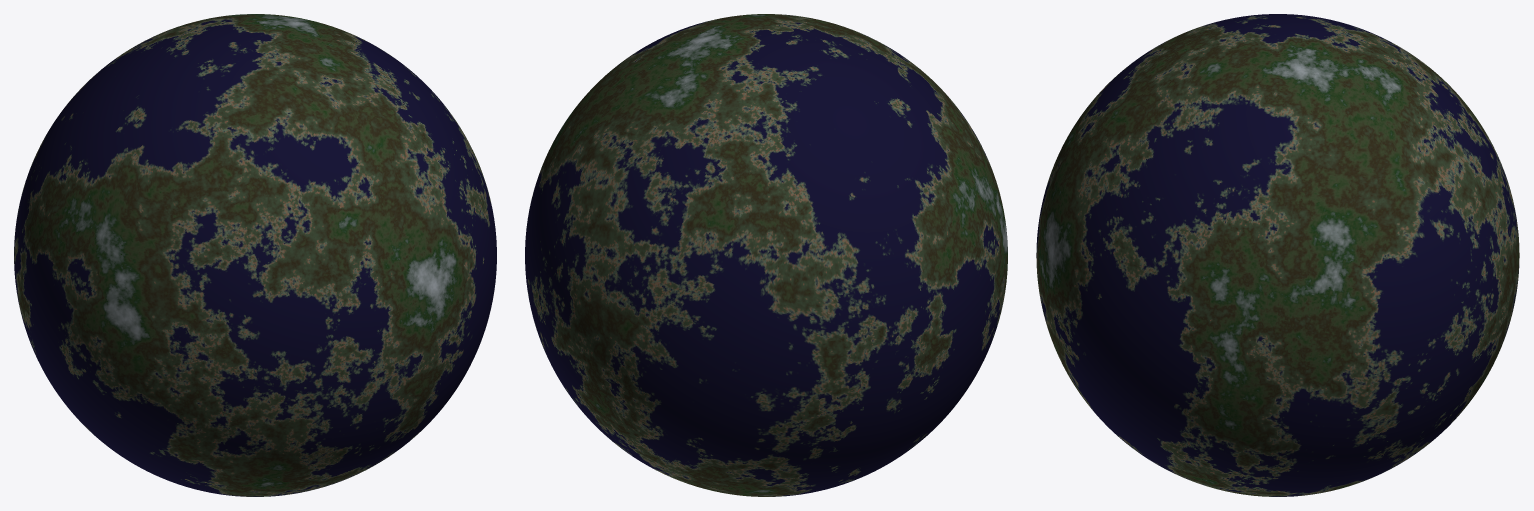
Rendered from Genussa.glb.
3 renders of one model, left to right at view 1: azimuth 30°, elevation 25°; view 2: azimuth 150°, elevation 25°; view 3: azimuth 270°, elevation 25°, orthographic.
Parts seen in each view (by area): view 1: Planet; view 2: Planet; view 3: Planet.
Boxes of the visible parts, <box> form: Planet: <box>14,14,496,496</box>; Planet: <box>525,14,1007,496</box>; Planet: <box>1036,14,1519,496</box>.
Size of the model in its own units: 2 by 2 by 2.
Materials: 1 (1 with a texture image).
